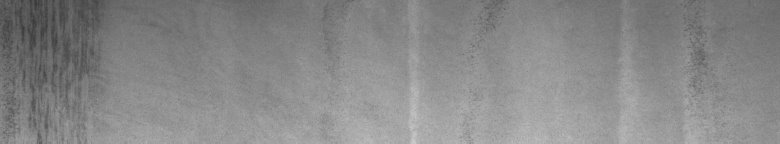ka: (4, 4, 101, 136)
